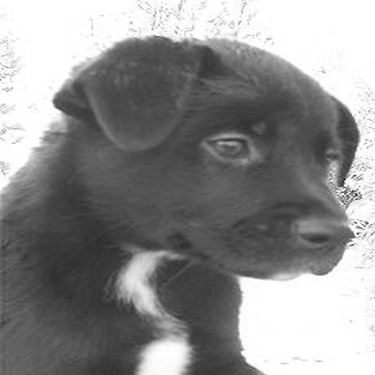dog: (4, 29, 366, 369)
